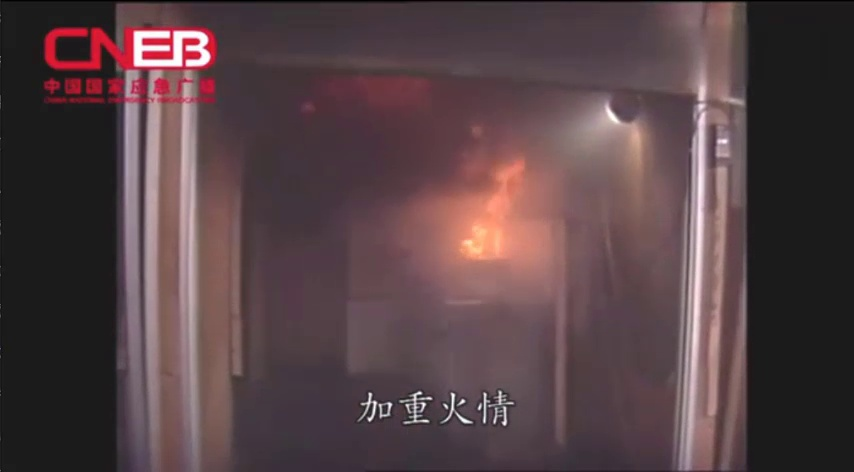fire: (443, 143, 533, 271)
